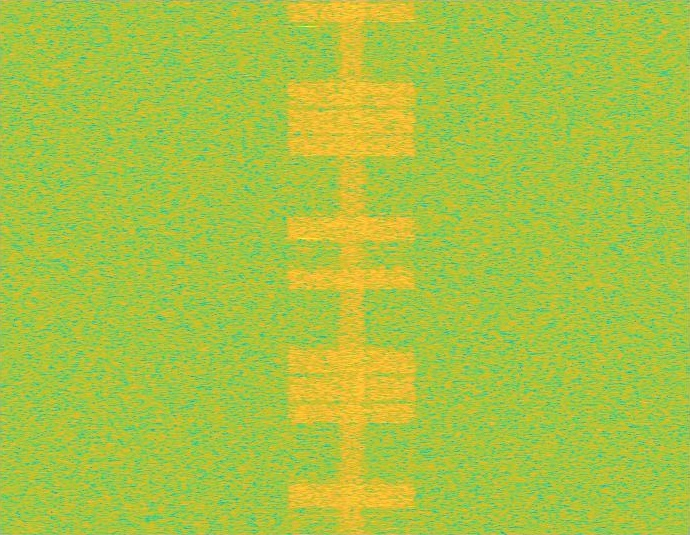DSSS: (336, 0, 367, 534)
LTE: (283, 0, 421, 534)
Radar: (301, 0, 315, 534)
